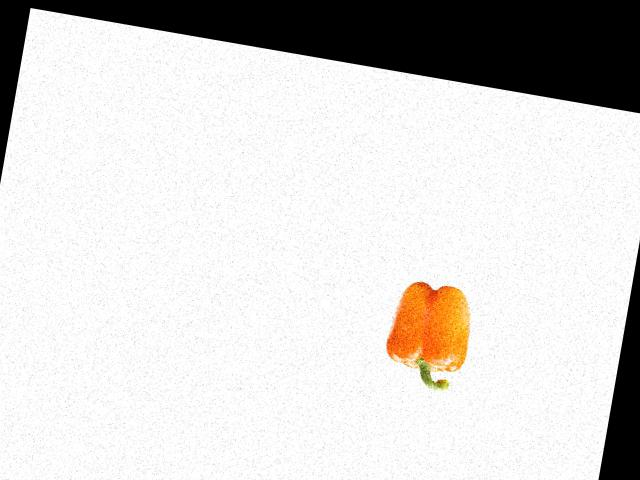bell_pepper: (372, 275, 486, 396)
